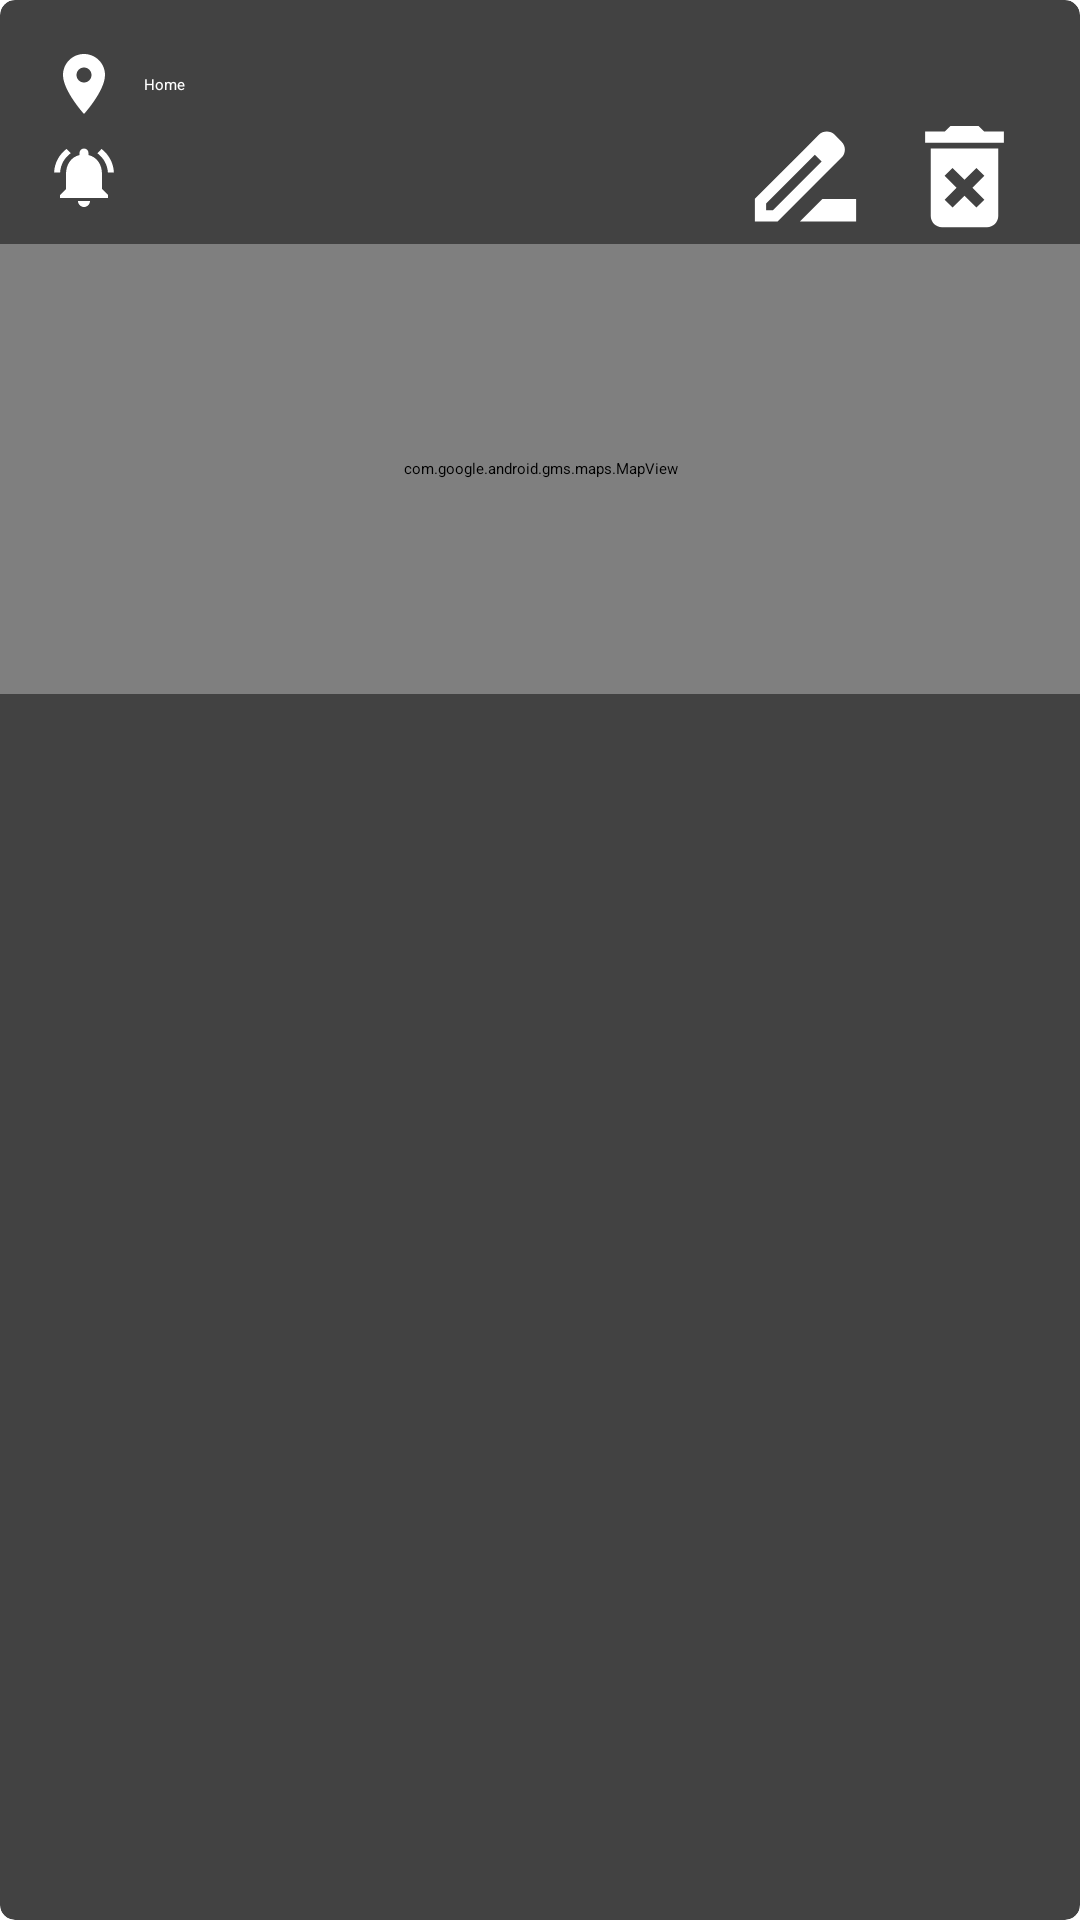

Screen size 1080 x 1920. Icon name, then its center in pixels as (x,y):
delete forever deep: (964,177)
drive file rename: (805,176)
location on: (84,84)
notifications: (84,177)
